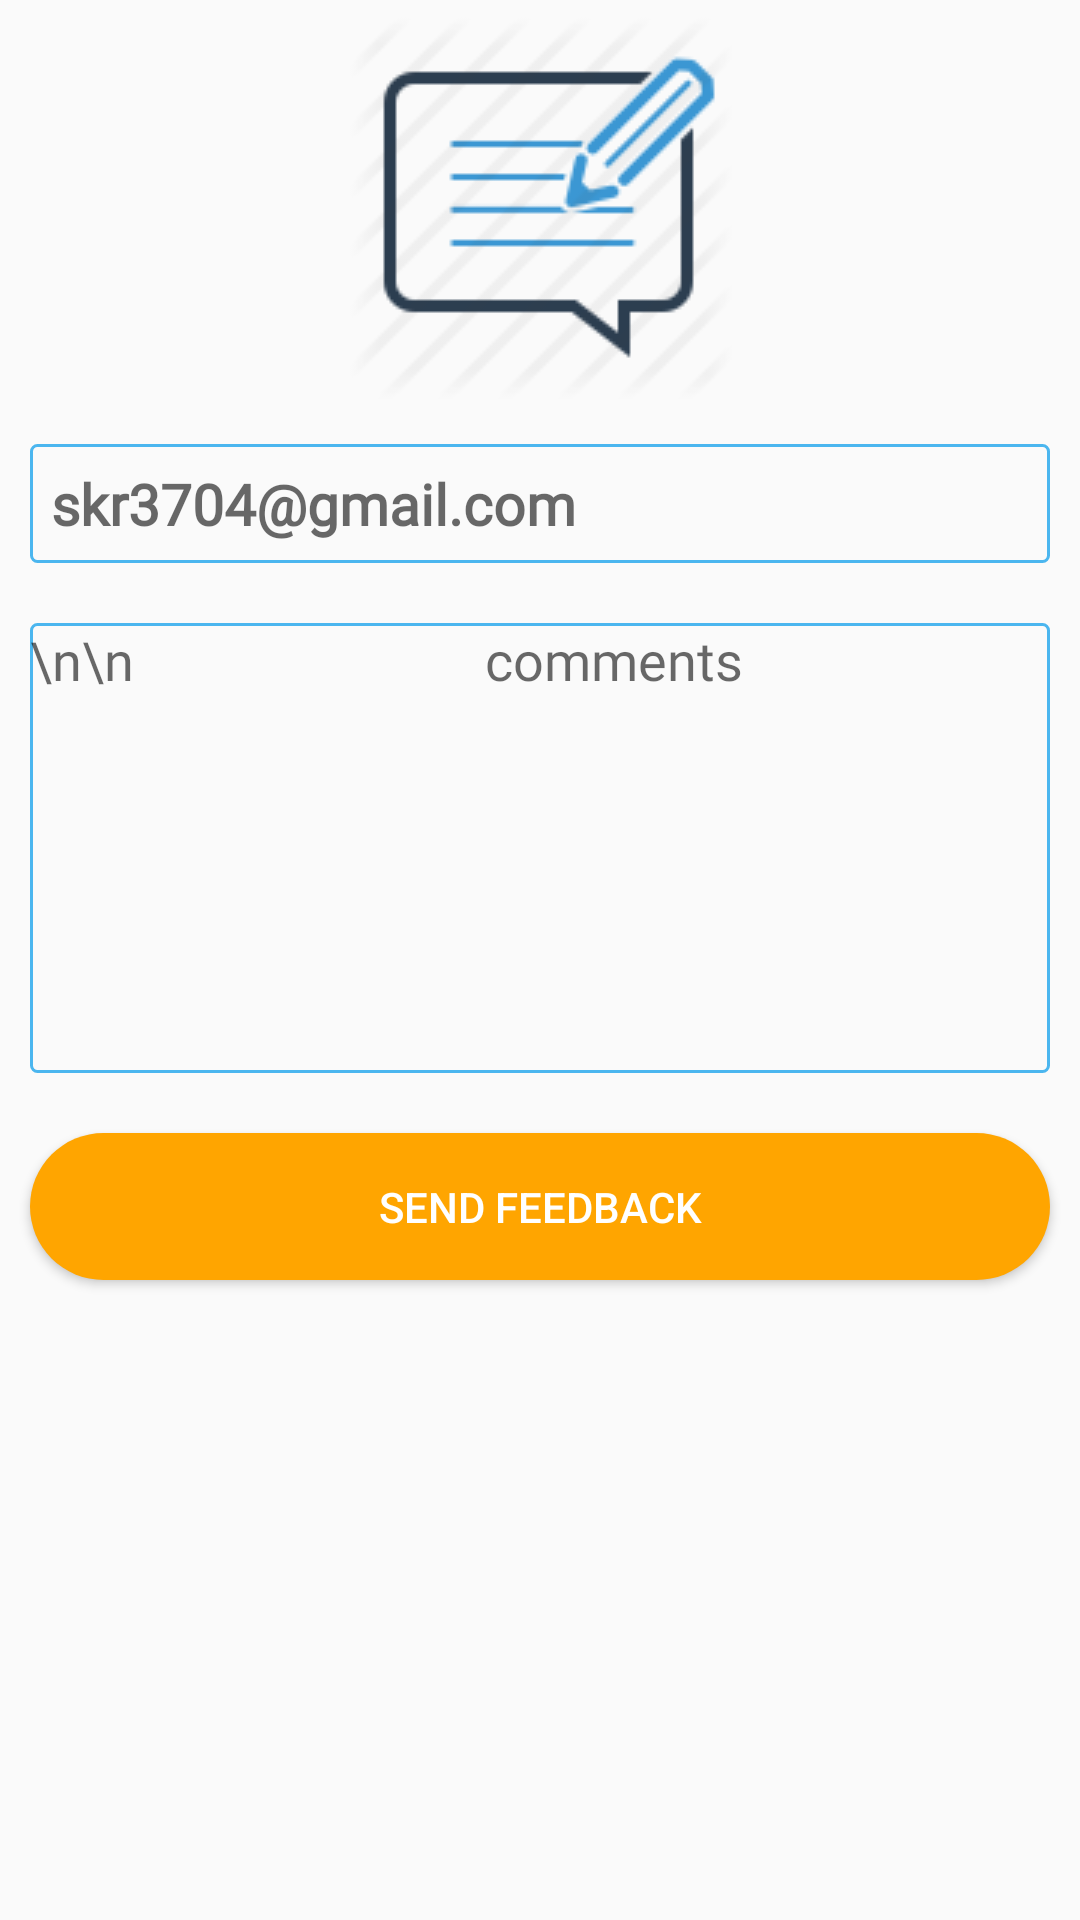

Icon bounding boxes for this 1080 × 1920 phone screenshot, format {"left": x1, "top": y1, "right": x2, "bottom": y2}:
feedback: {"left": 383, "top": 56, "right": 715, "bottom": 358}
